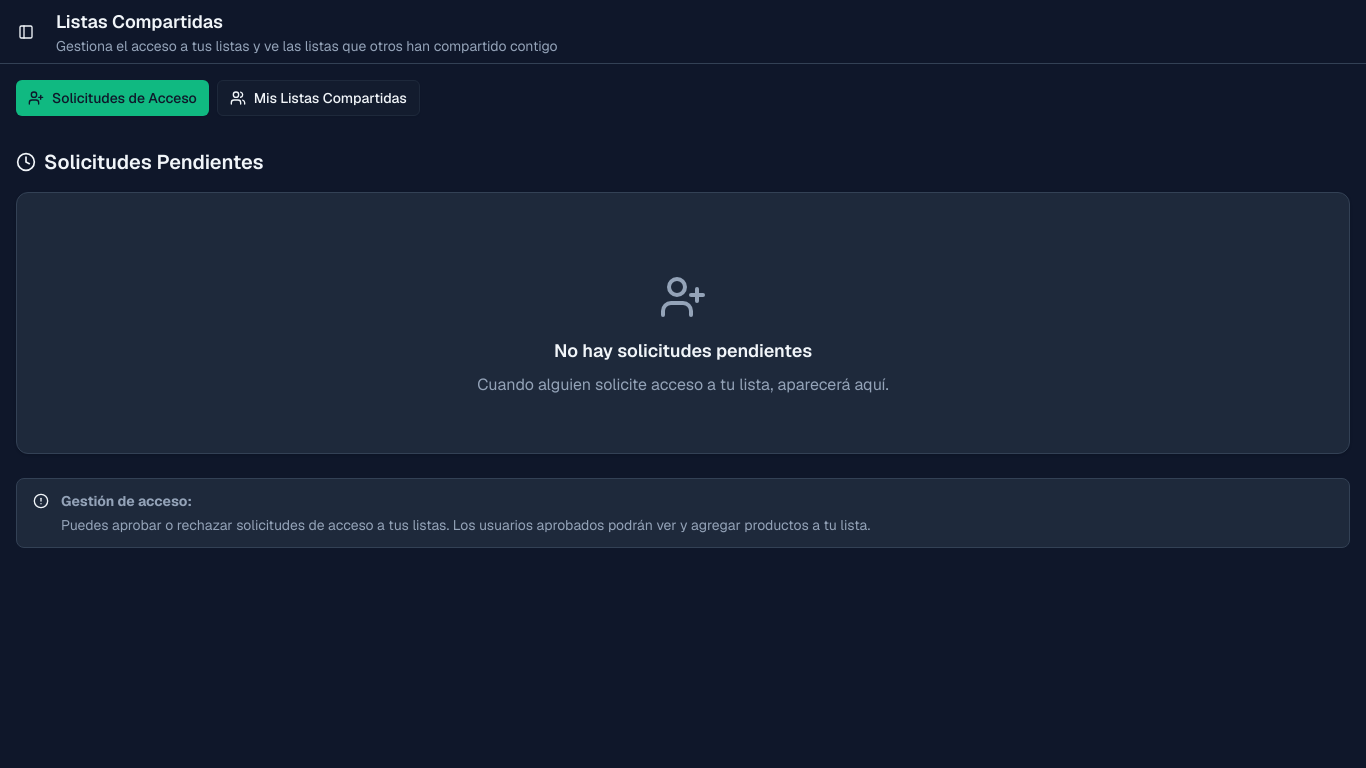
Scenario: SharedListsPage › should load and display shared lists
The image size is (1366, 768).
Note: Switch to my-lists tab
Step 1. Click the button "Mis Listas Compartidas" → coordinates (318, 98), box [217,80,420,116]
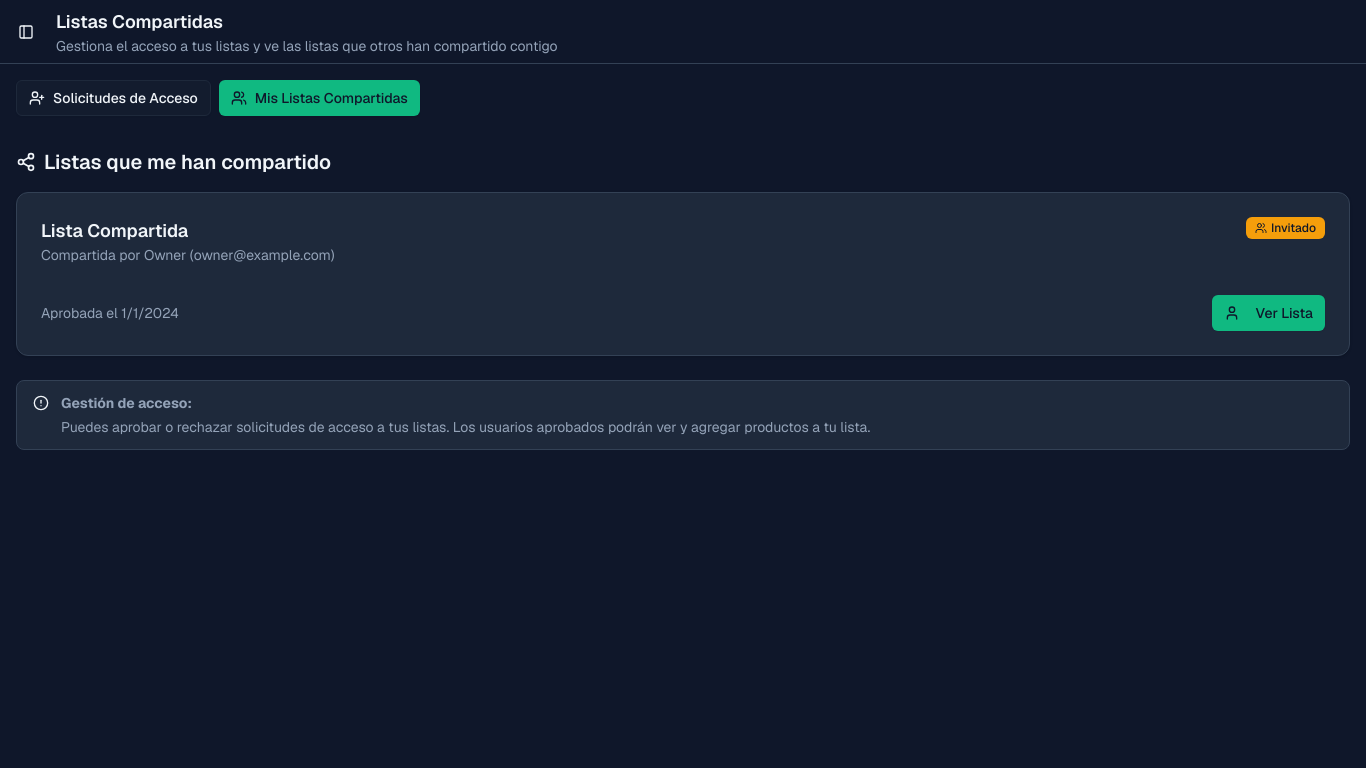
Check: the text "Lista Compartida" is shown, box [41,219,188,242]
Check: the text "Compartida por Owner (owner@example.com)" is shown, box [41,245,335,265]
